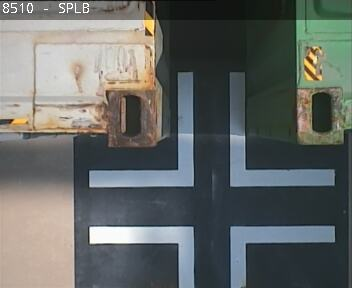groundmarker_1: (88, 72, 333, 188), (89, 225, 334, 288)
